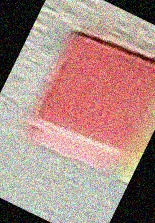orange_cube: (25, 32, 155, 174)
